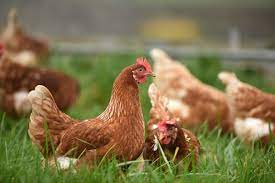Gà/Chicken: (15, 47, 219, 178)
